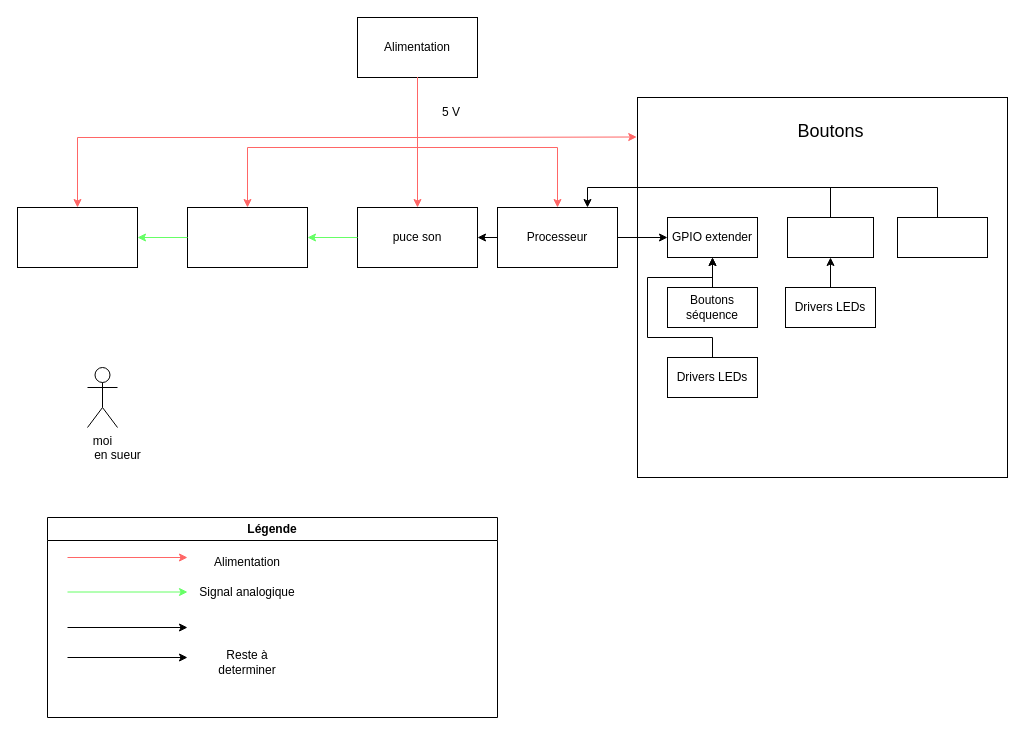
The diagram is 1025 pixels wide and 735 high, and some of its shapes have lost their labels. The centre of each missing label's shape, as x and y in pixels:
Egaliseur: the point at 247,237
Haut parleur: the point at 77,237
Potentiomètres/ Sélecteurs: the point at 942,237
Tap tempo: the point at 830,237
